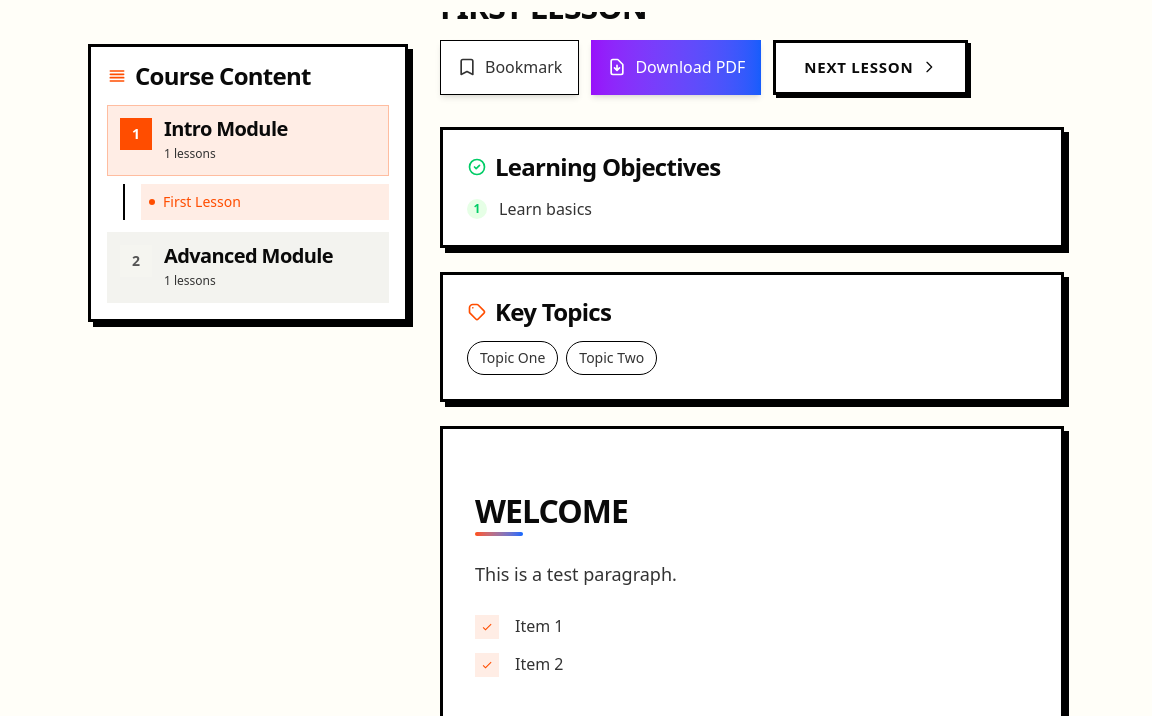
Test: Course Page - Lesson Navigation Flow › should navigate to next lesson
(page scrolled)
Click the button "Next Lesson". click: {"x": 871, "y": 68}
box: [773, 40, 968, 95]
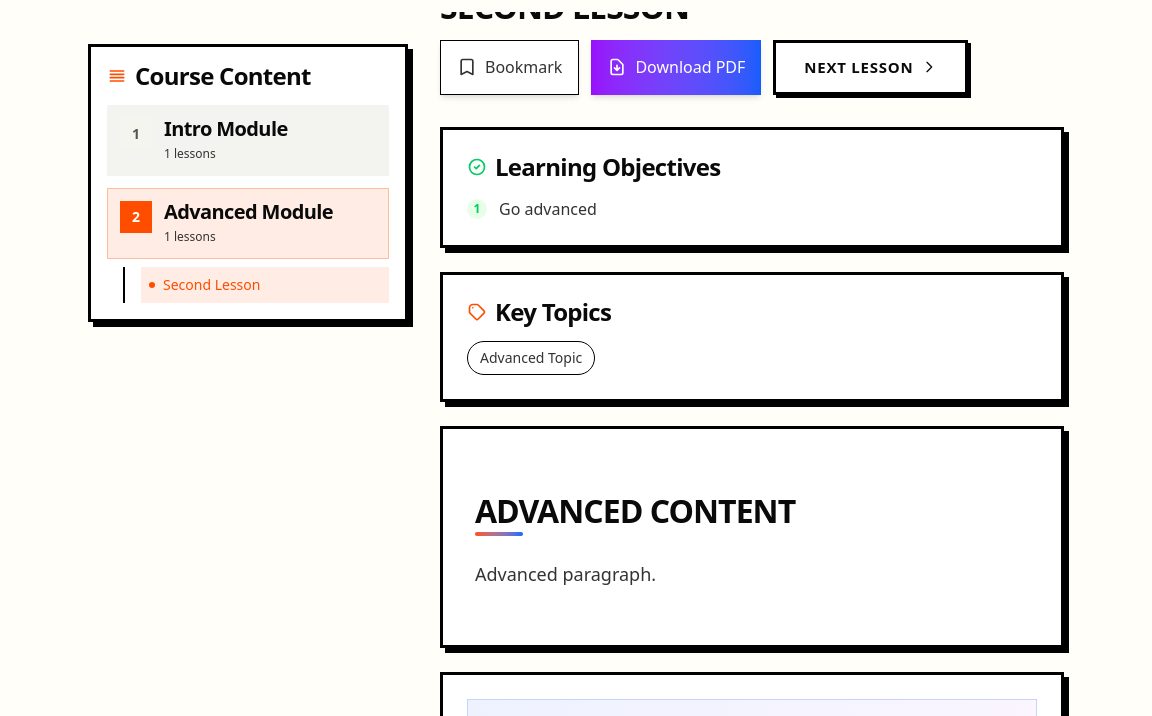
Expected: the text "Second Lesson" is shown, [163, 276, 260, 296]
